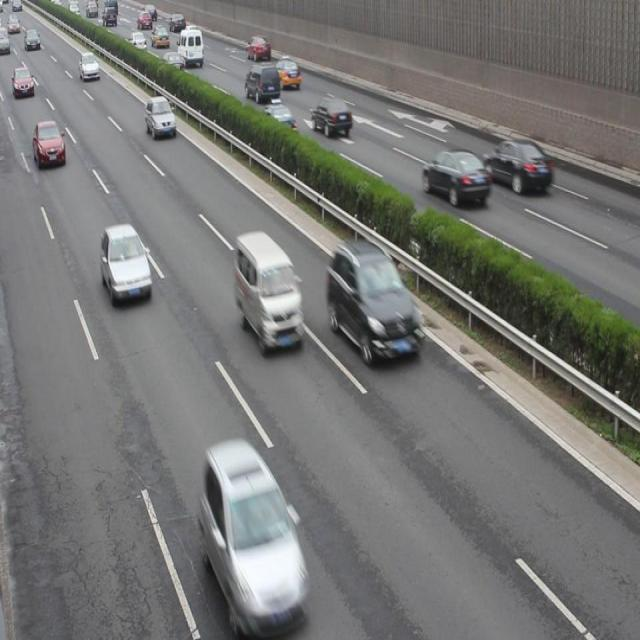car: (201, 440, 306, 626), (327, 241, 421, 363), (102, 224, 153, 302), (420, 150, 491, 206), (484, 137, 552, 191), (311, 97, 352, 139), (34, 120, 66, 167), (260, 98, 298, 136), (145, 96, 176, 140), (273, 55, 299, 90), (11, 66, 36, 98), (162, 51, 185, 76), (79, 53, 99, 80), (246, 36, 269, 59), (152, 25, 169, 47), (129, 32, 146, 52), (169, 13, 186, 32), (182, 24, 198, 40)
truck: (234, 232, 304, 353), (245, 63, 279, 104), (178, 29, 203, 66)
